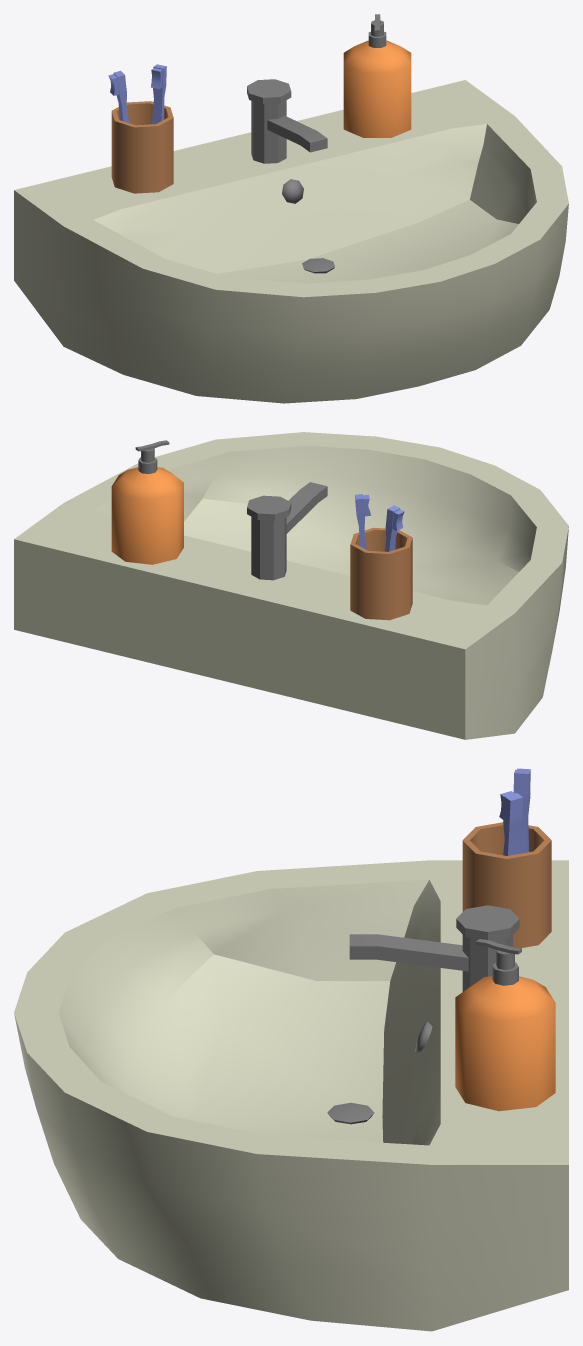
Rendered from pila.fbx.
The picture shows the model from 3 angles, top to bottom: view 1: azimuth 30°, elevation 25°; view 2: azimuth 150°, elevation 25°; view 3: azimuth 270°, elevation 25°; orthographic projection. The views are drawn at different scales.
Parts seen in each view (by area): view 1: SinkBase.001, SoapDispenser.007, Cup.007, MixerBase.007, MixerFront.001, Toothbrush.011, Toothbrush.012; view 2: SinkBase.001, SoapDispenser.007, Cup.007, MixerBase.007, MixerFront.001, Toothbrush.012, Toothbrush.011; view 3: SinkBase.001, SoapDispenser.007, Cup.007, MixerBase.007, MixerFront.001, Toothbrush.011, Toothbrush.012, WaterExit.005.
Boxes of the visible parts, left/top/right/bottom form: SinkBase.001: left=14, top=80, right=568, bottom=403; SoapDispenser.007: left=343, top=14, right=411, bottom=137; Cup.007: left=111, top=101, right=173, bottom=193; MixerBase.007: left=247, top=79, right=291, bottom=163; MixerFront.001: left=267, top=115, right=327, bottom=152; Toothbrush.011: left=151, top=64, right=166, bottom=124; Toothbrush.012: left=108, top=70, right=129, bottom=122; SinkBase.001: left=14, top=432, right=568, bottom=739; SoapDispenser.007: left=111, top=440, right=183, bottom=564; Cup.007: left=350, top=527, right=412, bottom=620; MixerBase.007: left=247, top=495, right=291, bottom=580; MixerFront.001: left=286, top=482, right=327, bottom=533; Toothbrush.012: left=384, top=505, right=404, bottom=551; Toothbrush.011: left=355, top=494, right=370, bottom=549; SinkBase.001: left=14, top=860, right=568, bottom=1331; SoapDispenser.007: left=455, top=939, right=555, bottom=1111; Cup.007: left=462, top=822, right=551, bottom=948; MixerBase.007: left=456, top=905, right=519, bottom=991; MixerFront.001: left=349, top=934, right=468, bottom=971; Toothbrush.011: left=499, top=791, right=523, bottom=855; Toothbrush.012: left=513, top=768, right=530, bottom=853; WaterExit.005: left=327, top=1102, right=374, bottom=1124.
Size of the model in its own units: 80.97 by 39.06 by 62.31.
